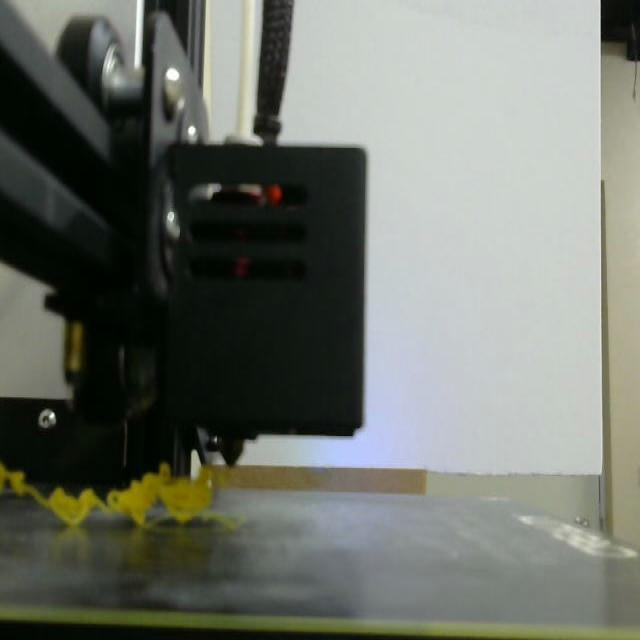spaghetti: (0, 462, 212, 527)
